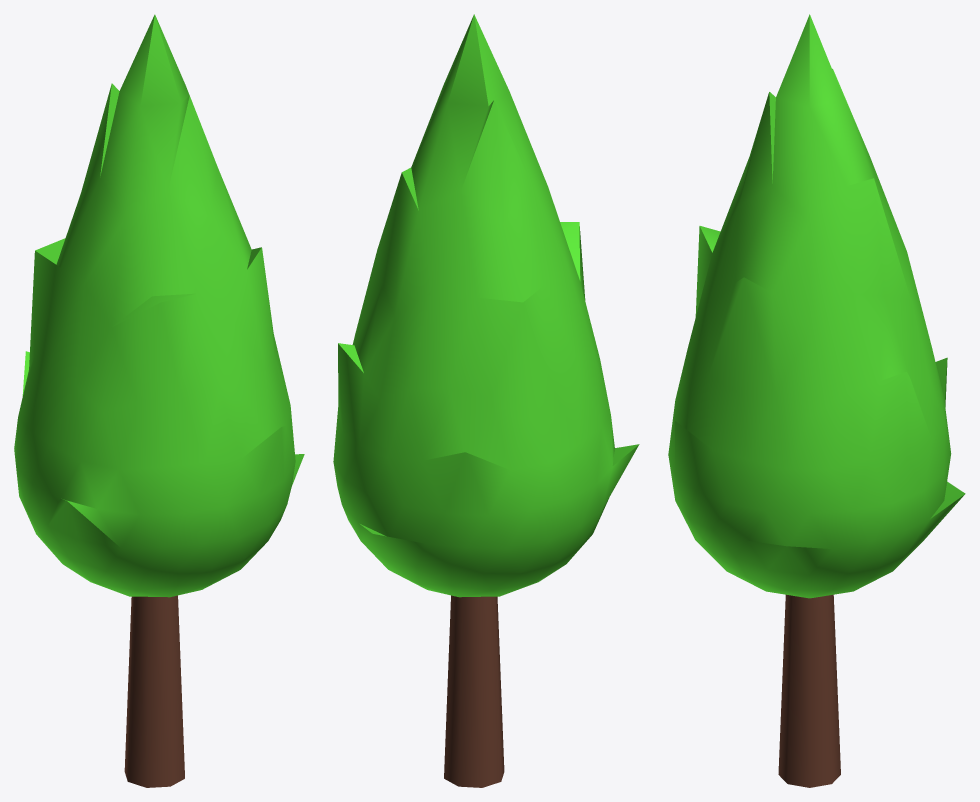
The model's file is el_tree2.fbx.
3 renders of one model, left to right at view 1: azimuth 30°, elevation 25°; view 2: azimuth 150°, elevation 25°; view 3: azimuth 270°, elevation 25°, orthographic.
Visible parts, largest first — view 1: Icosphere.004, Cylinder.001; view 2: Icosphere.004, Cylinder.001; view 3: Icosphere.004, Cylinder.001.
Part boxes in pixels (x1,y1,x2,y2): Icosphere.004: (14, 14, 304, 597); Cylinder.001: (124, 595, 184, 787); Icosphere.004: (333, 14, 639, 597); Cylinder.001: (444, 595, 504, 787); Icosphere.004: (668, 14, 965, 598); Cylinder.001: (778, 594, 840, 787).
Size of the model in its own units: 216 by 593 by 210.
